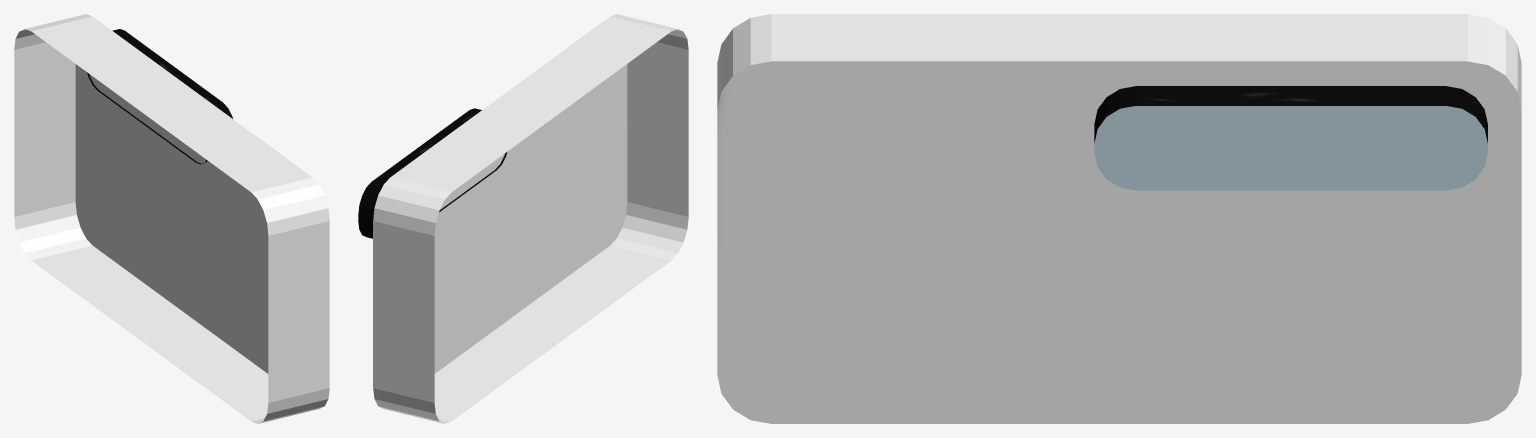
File: ControlPanel.fbx
3 renders of one model, left to right at view 1: azimuth 30°, elevation 25°; view 2: azimuth 150°, elevation 25°; view 3: azimuth 270°, elevation 25°, orthographic. The views are drawn at different scales.
Parts seen in each view (by area): view 1: ControlPanel; view 2: ControlPanel; view 3: ControlPanel.
Part boxes in pixels (x1=…): ControlPanel: x1=14, y1=14, x2=329, y2=423; ControlPanel: x1=358, y1=14, x2=688, y2=423; ControlPanel: x1=717, y1=14, x2=1521, y2=423.
Size of the model in its own units: 19.86 by 50 by 101.
